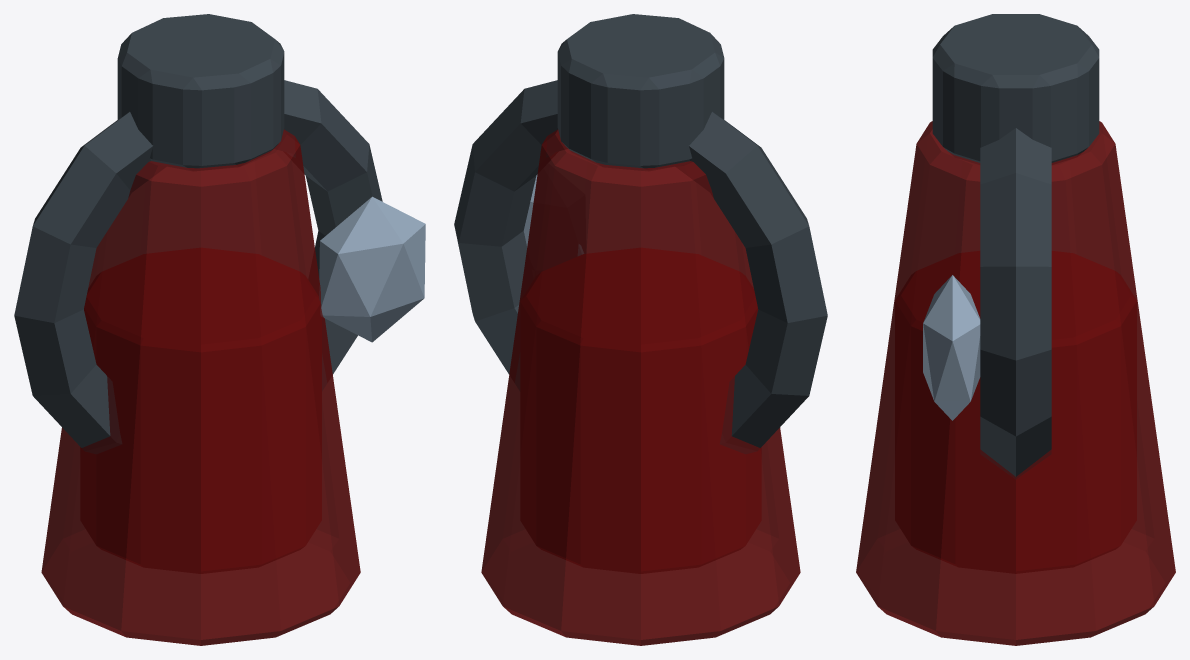
File: whetstone_draught.obj
3 renders of one model, left to right at view 1: azimuth 30°, elevation 25°; view 2: azimuth 150°, elevation 25°; view 3: azimuth 270°, elevation 25°, orthographic.
Visible parts, largest first — view 1: Whetstone_Bottle.001_MAT_GlassRed, Whetstone_Liquid.001_MAT_LiquidRed, Whetstone_Ring.001_MAT_Iron, Whetstone_Stopper.001_MAT_Iron, Whetstone_Chip.001_MAT_SilverSteel; view 2: Whetstone_Bottle.001_MAT_GlassRed, Whetstone_Liquid.001_MAT_LiquidRed, Whetstone_Ring.001_MAT_Iron, Whetstone_Stopper.001_MAT_Iron; view 3: Whetstone_Bottle.001_MAT_GlassRed, Whetstone_Liquid.001_MAT_LiquidRed, Whetstone_Ring.001_MAT_Iron, Whetstone_Stopper.001_MAT_Iron, Whetstone_Chip.001_MAT_SilverSteel.
Part boxes in pixels (left/top/right/bottom): Whetstone_Bottle.001_MAT_GlassRed: left=41, top=129, right=360, bottom=645; Whetstone_Liquid.001_MAT_LiquidRed: left=80, top=248, right=321, bottom=573; Whetstone_Ring.001_MAT_Iron: left=14, top=80, right=382, bottom=453; Whetstone_Stopper.001_MAT_Iron: left=117, top=14, right=284, bottom=170; Whetstone_Chip.001_MAT_SilverSteel: left=319, top=196, right=425, bottom=342; Whetstone_Bottle.001_MAT_GlassRed: left=481, top=129, right=800, bottom=645; Whetstone_Liquid.001_MAT_LiquidRed: left=520, top=248, right=761, bottom=573; Whetstone_Ring.001_MAT_Iron: left=454, top=80, right=827, bottom=453; Whetstone_Stopper.001_MAT_Iron: left=557, top=14, right=724, bottom=170; Whetstone_Bottle.001_MAT_GlassRed: left=856, top=121, right=1175, bottom=645; Whetstone_Liquid.001_MAT_LiquidRed: left=895, top=251, right=1136, bottom=573; Whetstone_Ring.001_MAT_Iron: left=980, top=128, right=1051, bottom=478; Whetstone_Stopper.001_MAT_Iron: left=932, top=14, right=1099, bottom=164; Whetstone_Chip.001_MAT_SilverSteel: left=923, top=275, right=980, bottom=420.
Size of the model in its own units: 1.52 by 2.06 by 1.11.
